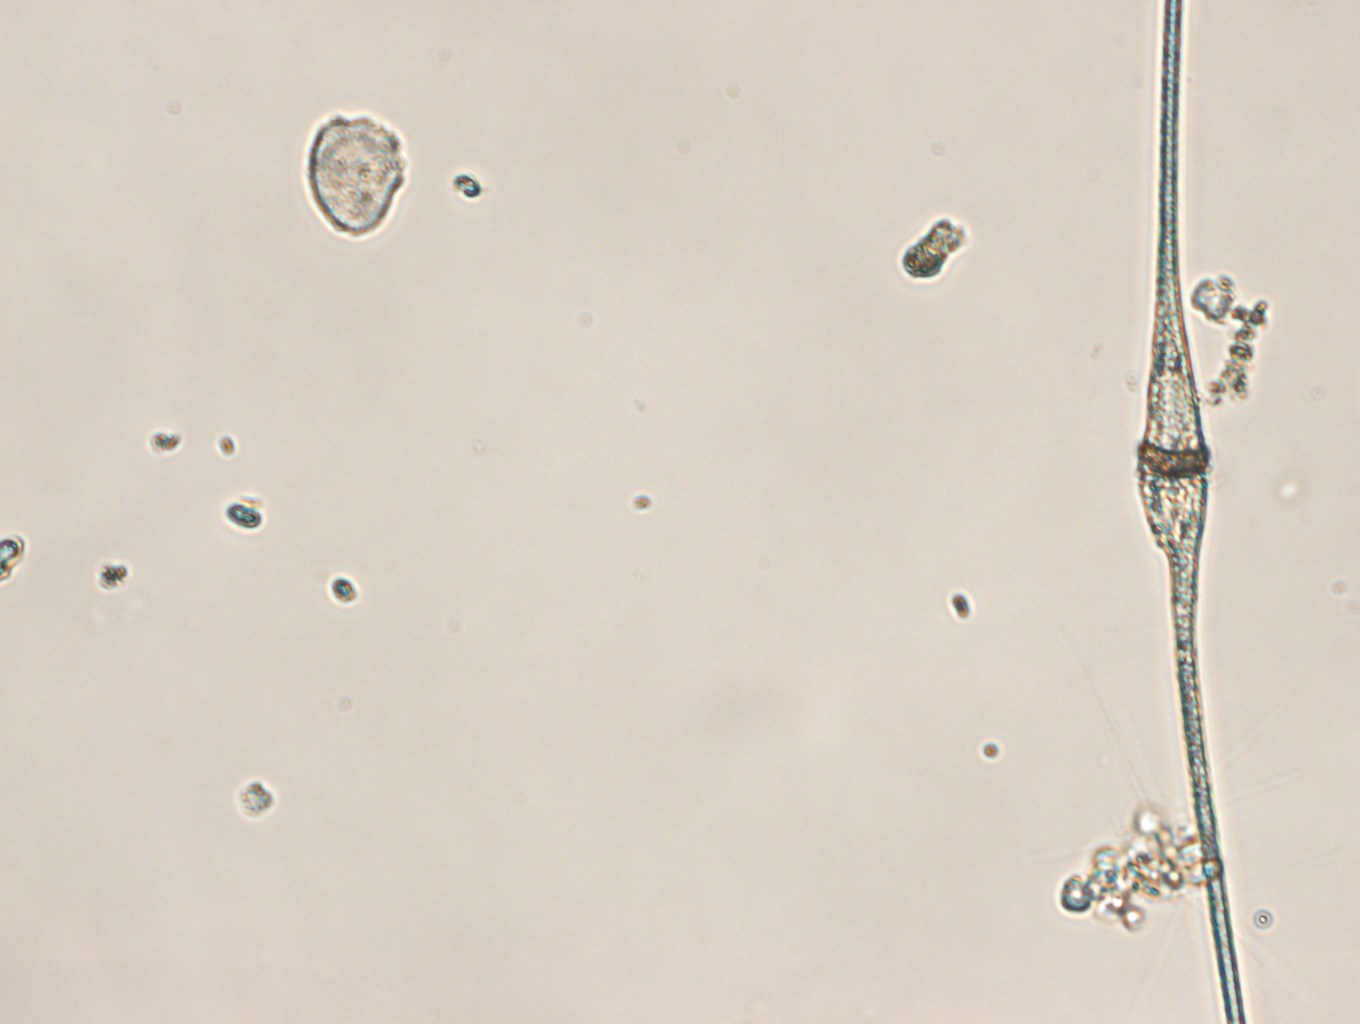ceratium fusus: (1136, 1, 1243, 1024)
